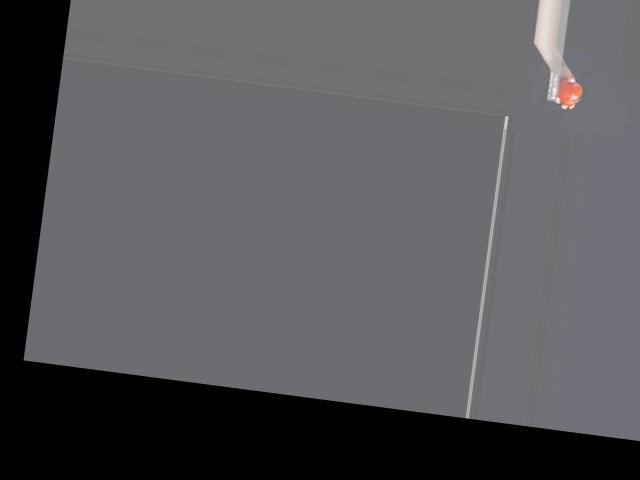tomato: (555, 79, 583, 108)
